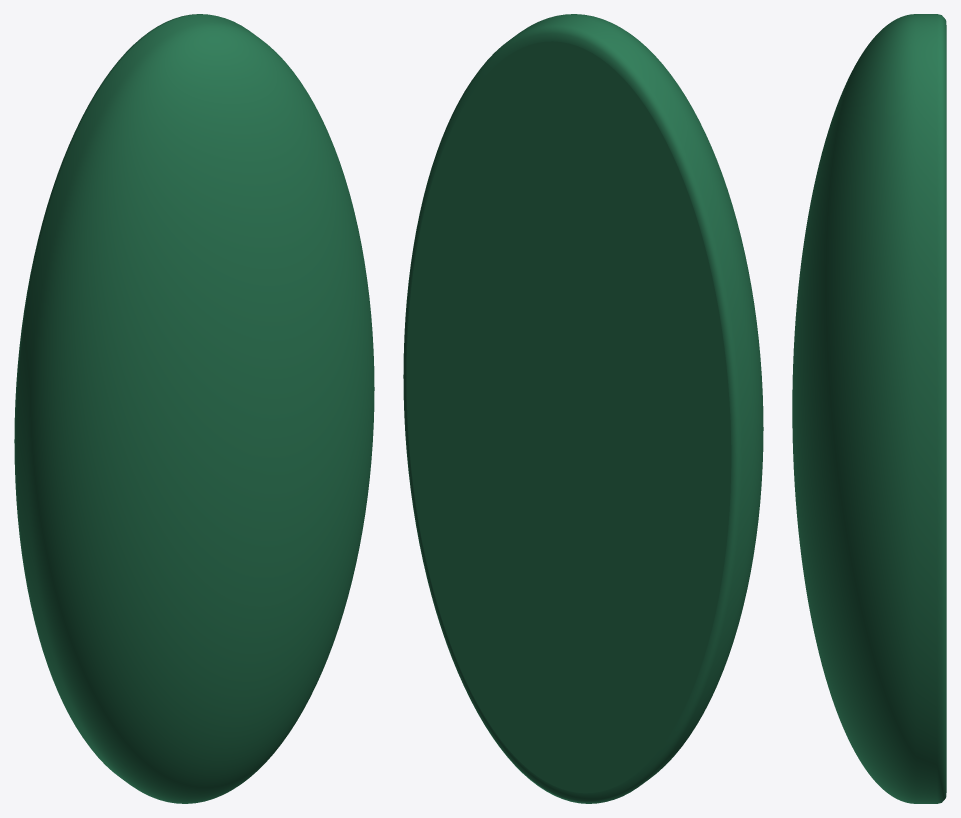
The model's file is long-oval.glb.
3 views of the same model, side by side, from view 1: azimuth 30°, elevation 25°; view 2: azimuth 150°, elevation 25°; view 3: azimuth 270°, elevation 25° (orthographic).
Parts seen in each view (by area): view 1: Long-Oval Cabochon 22x10x4mm; view 2: Long-Oval Cabochon 22x10x4mm; view 3: Long-Oval Cabochon 22x10x4mm.
Boxes of the visible parts, x1,y1,x2,y2 form: Long-Oval Cabochon 22x10x4mm: (14, 14, 374, 803); Long-Oval Cabochon 22x10x4mm: (403, 14, 763, 803); Long-Oval Cabochon 22x10x4mm: (792, 14, 946, 803).
Size of the model in its own units: 0.01 by 0.022 by 0.00398.
